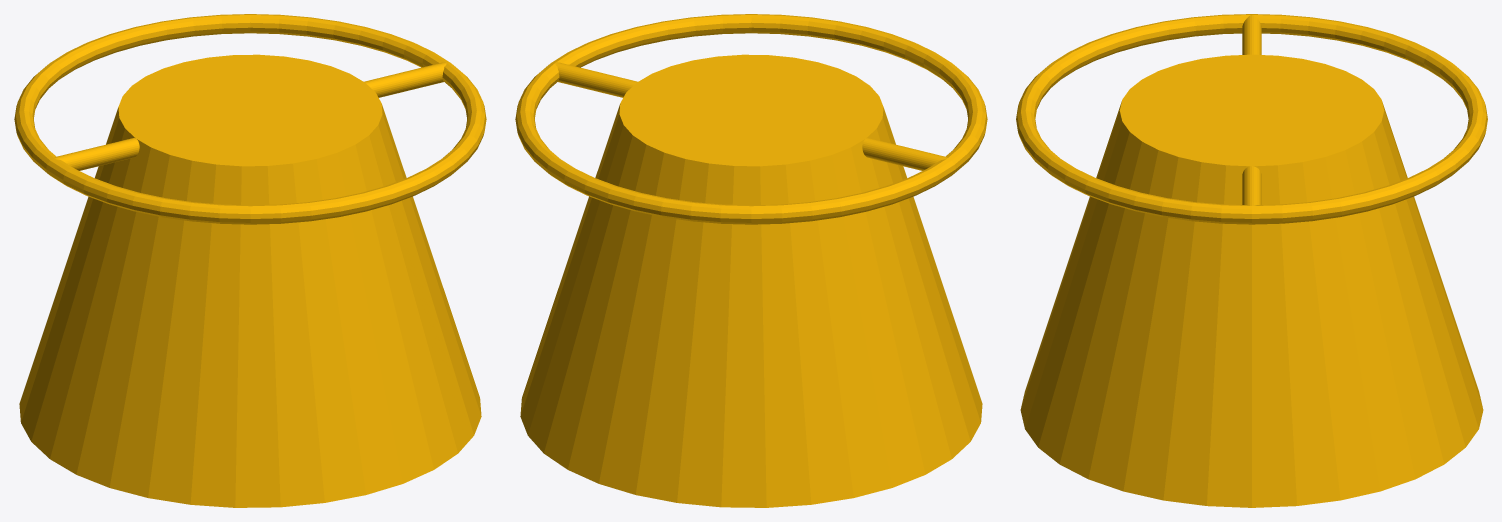
File: objek-vtol-2023.dae
3 renders of one model, left to right at view 1: azimuth 30°, elevation 25°; view 2: azimuth 150°, elevation 25°; view 3: azimuth 270°, elevation 25°, orthographic.
Parts seen in each view (by area): view 1: Cube; view 2: Cube; view 3: Cube.
Part boxes in pixels (box(x1,y1,x2,y2)): Cube: box(14, 14, 486, 507); Cube: box(515, 14, 987, 507); Cube: box(1016, 14, 1487, 507).
Bounding box in the file's own units: 0.1427 × 0.1427 × 0.1.
